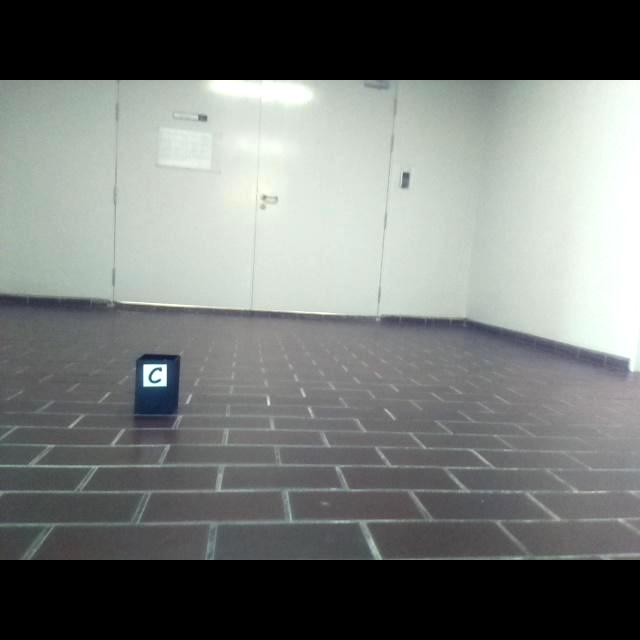C: (149, 367, 163, 384)
